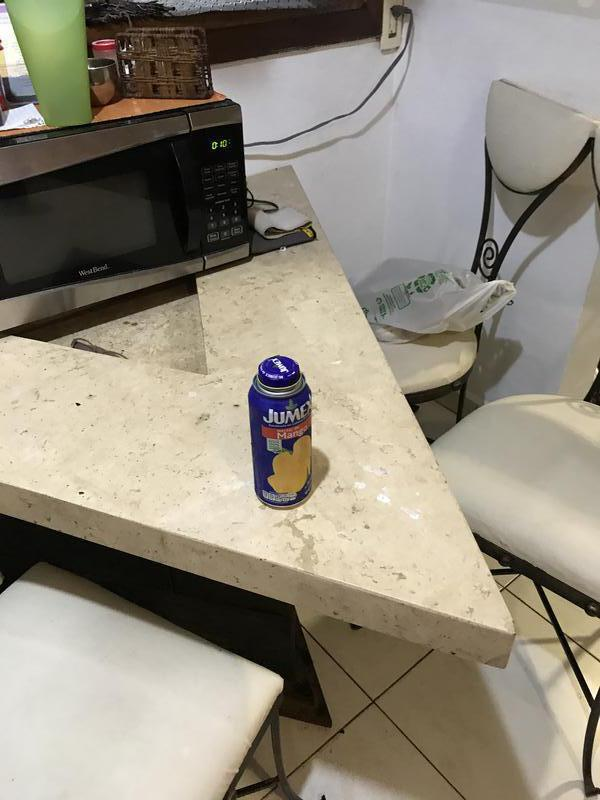jugo_jumex: (246, 355, 317, 509)
